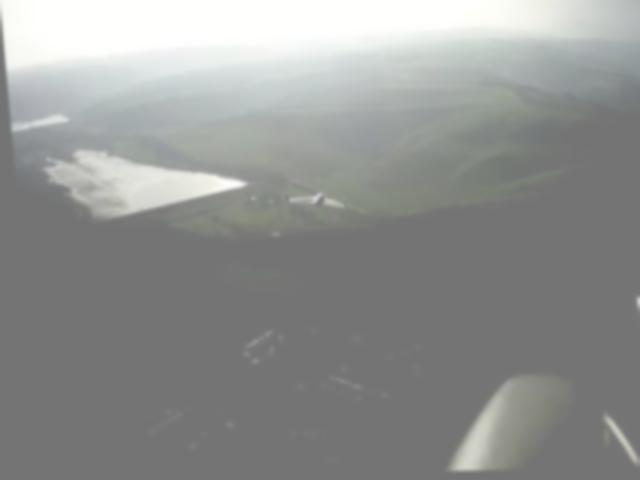iha: (284, 194, 341, 209)
